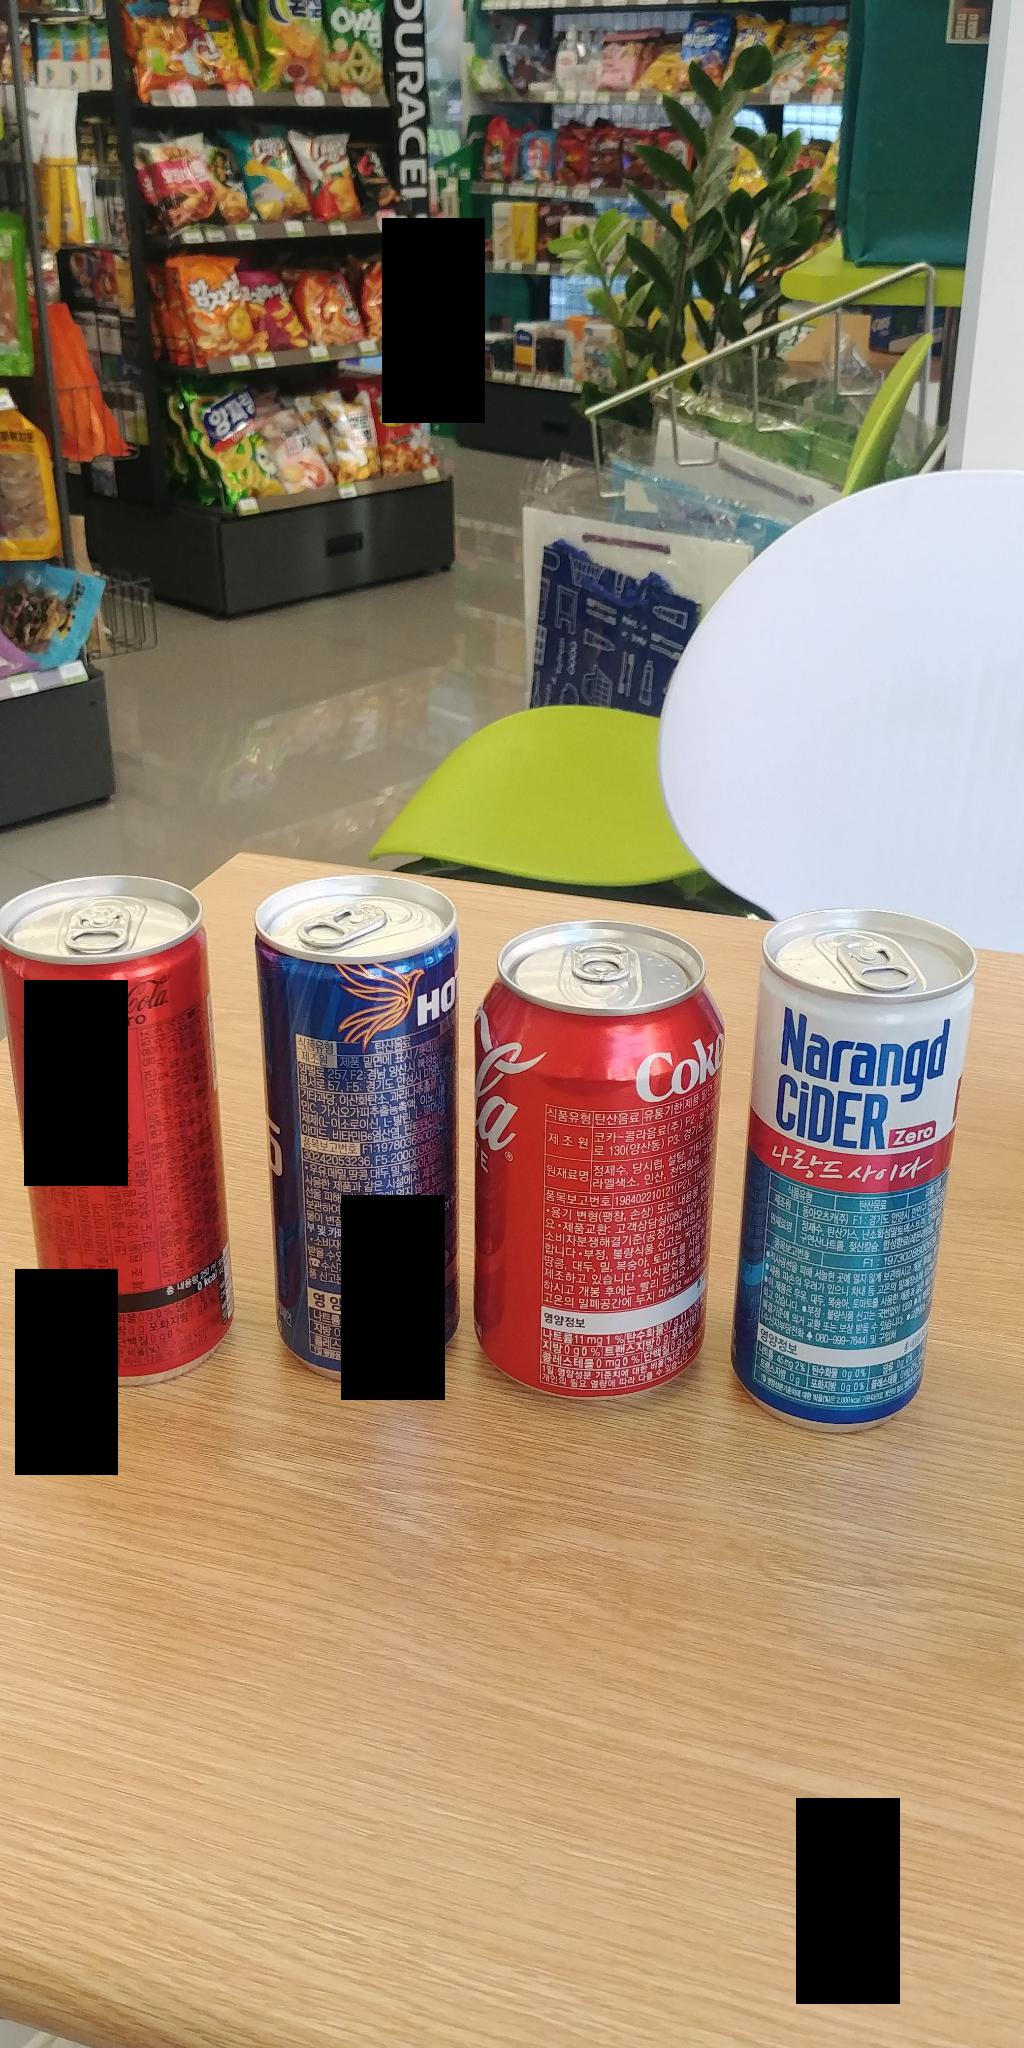cocacola: (488, 916, 709, 1413)
hotsix_org: (248, 866, 462, 1416)
narangdcider: (725, 866, 982, 1442)
